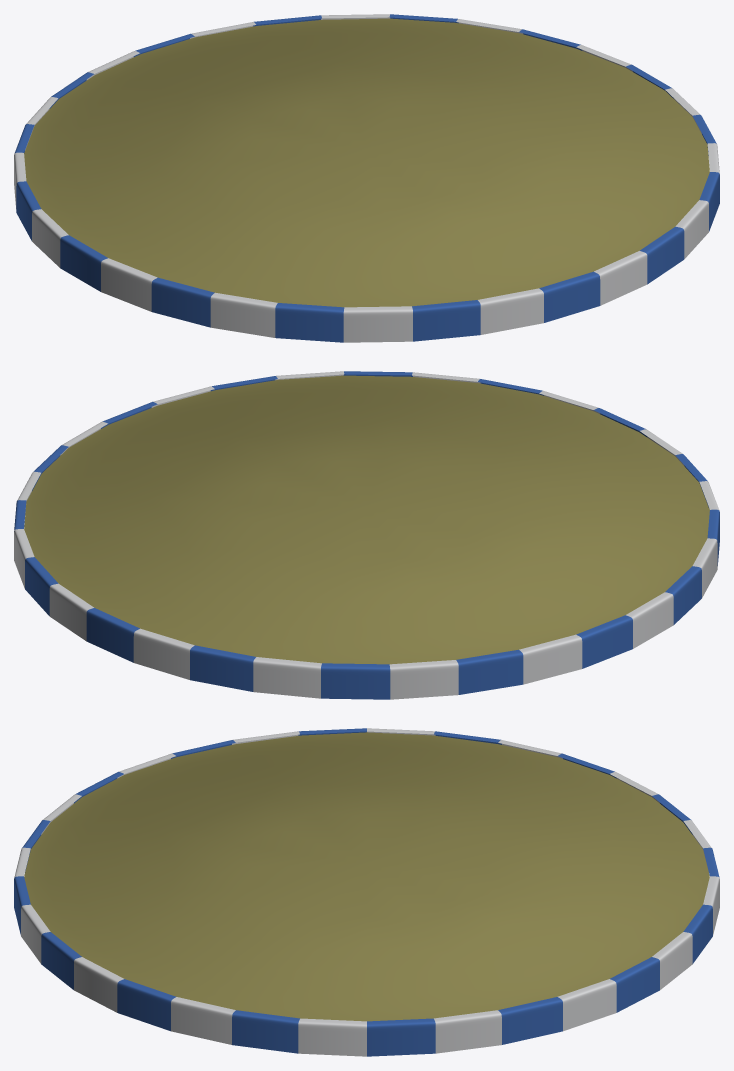
File: RoundAbout_02.fbx
The picture shows the model from 3 angles, top to bottom: view 1: azimuth 30°, elevation 25°; view 2: azimuth 150°, elevation 25°; view 3: azimuth 270°, elevation 25°; orthographic projection.
Parts seen in each view (by area): view 1: polySurface1, polySurface2; view 2: polySurface1, polySurface2; view 3: polySurface1, polySurface2.
Part boxes in pixels (box(x1,y1,x2,y2)): polySurface1: box(24, 18, 709, 307); polySurface2: box(14, 14, 719, 342); polySurface1: box(24, 375, 709, 664); polySurface2: box(14, 371, 719, 699); polySurface1: box(24, 732, 709, 1021); polySurface2: box(14, 728, 719, 1056).
Size of the model in its own units: 20.83 by 1.4 by 20.83.
